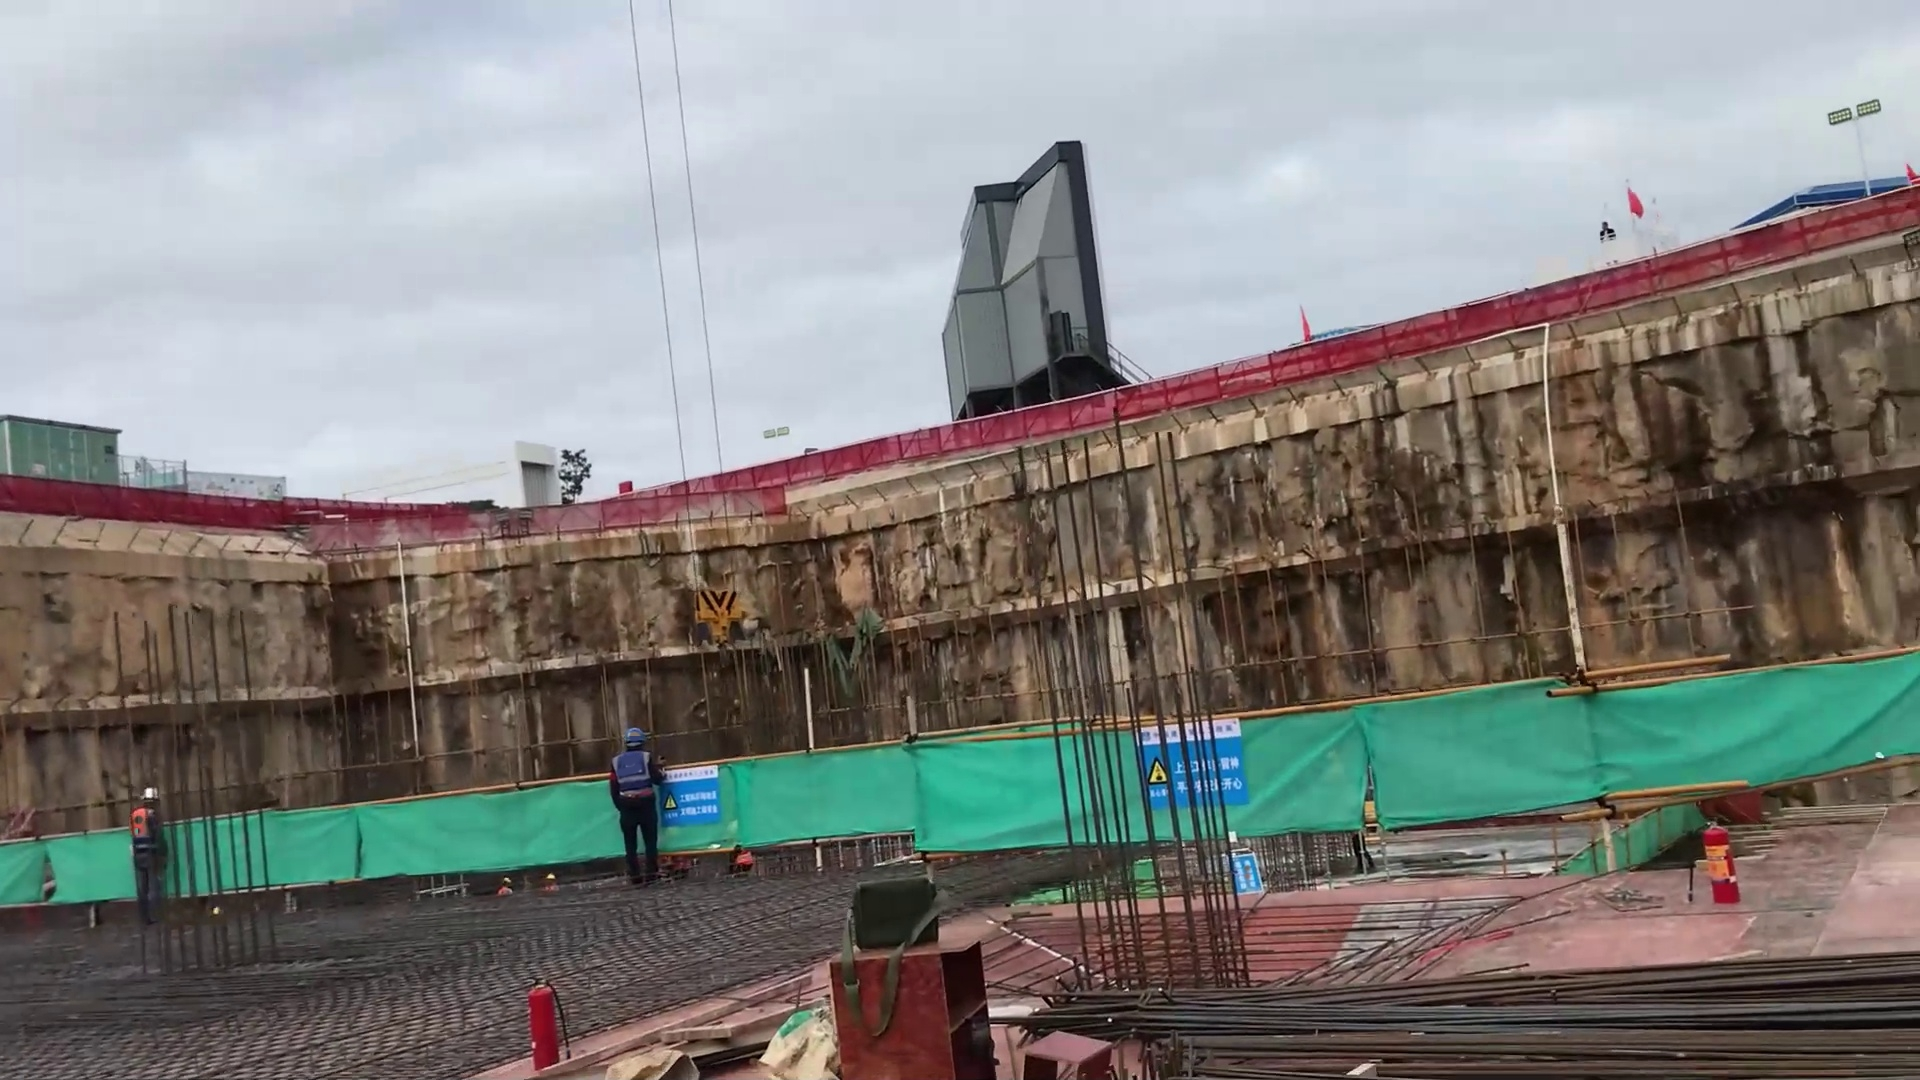fence: (1165, 270, 1605, 413), (544, 425, 952, 535)
helmet: (622, 726, 649, 747), (140, 784, 162, 805), (545, 871, 557, 883), (501, 875, 511, 884)
hook: (692, 585, 743, 652)
person: (607, 724, 668, 889), (129, 785, 170, 929)
rebar: (1018, 947, 1920, 1079)
slogan: (1131, 718, 1247, 810), (657, 764, 723, 826), (1229, 852, 1262, 895)
vest: (607, 748, 657, 811), (128, 806, 162, 859), (732, 846, 753, 867)
